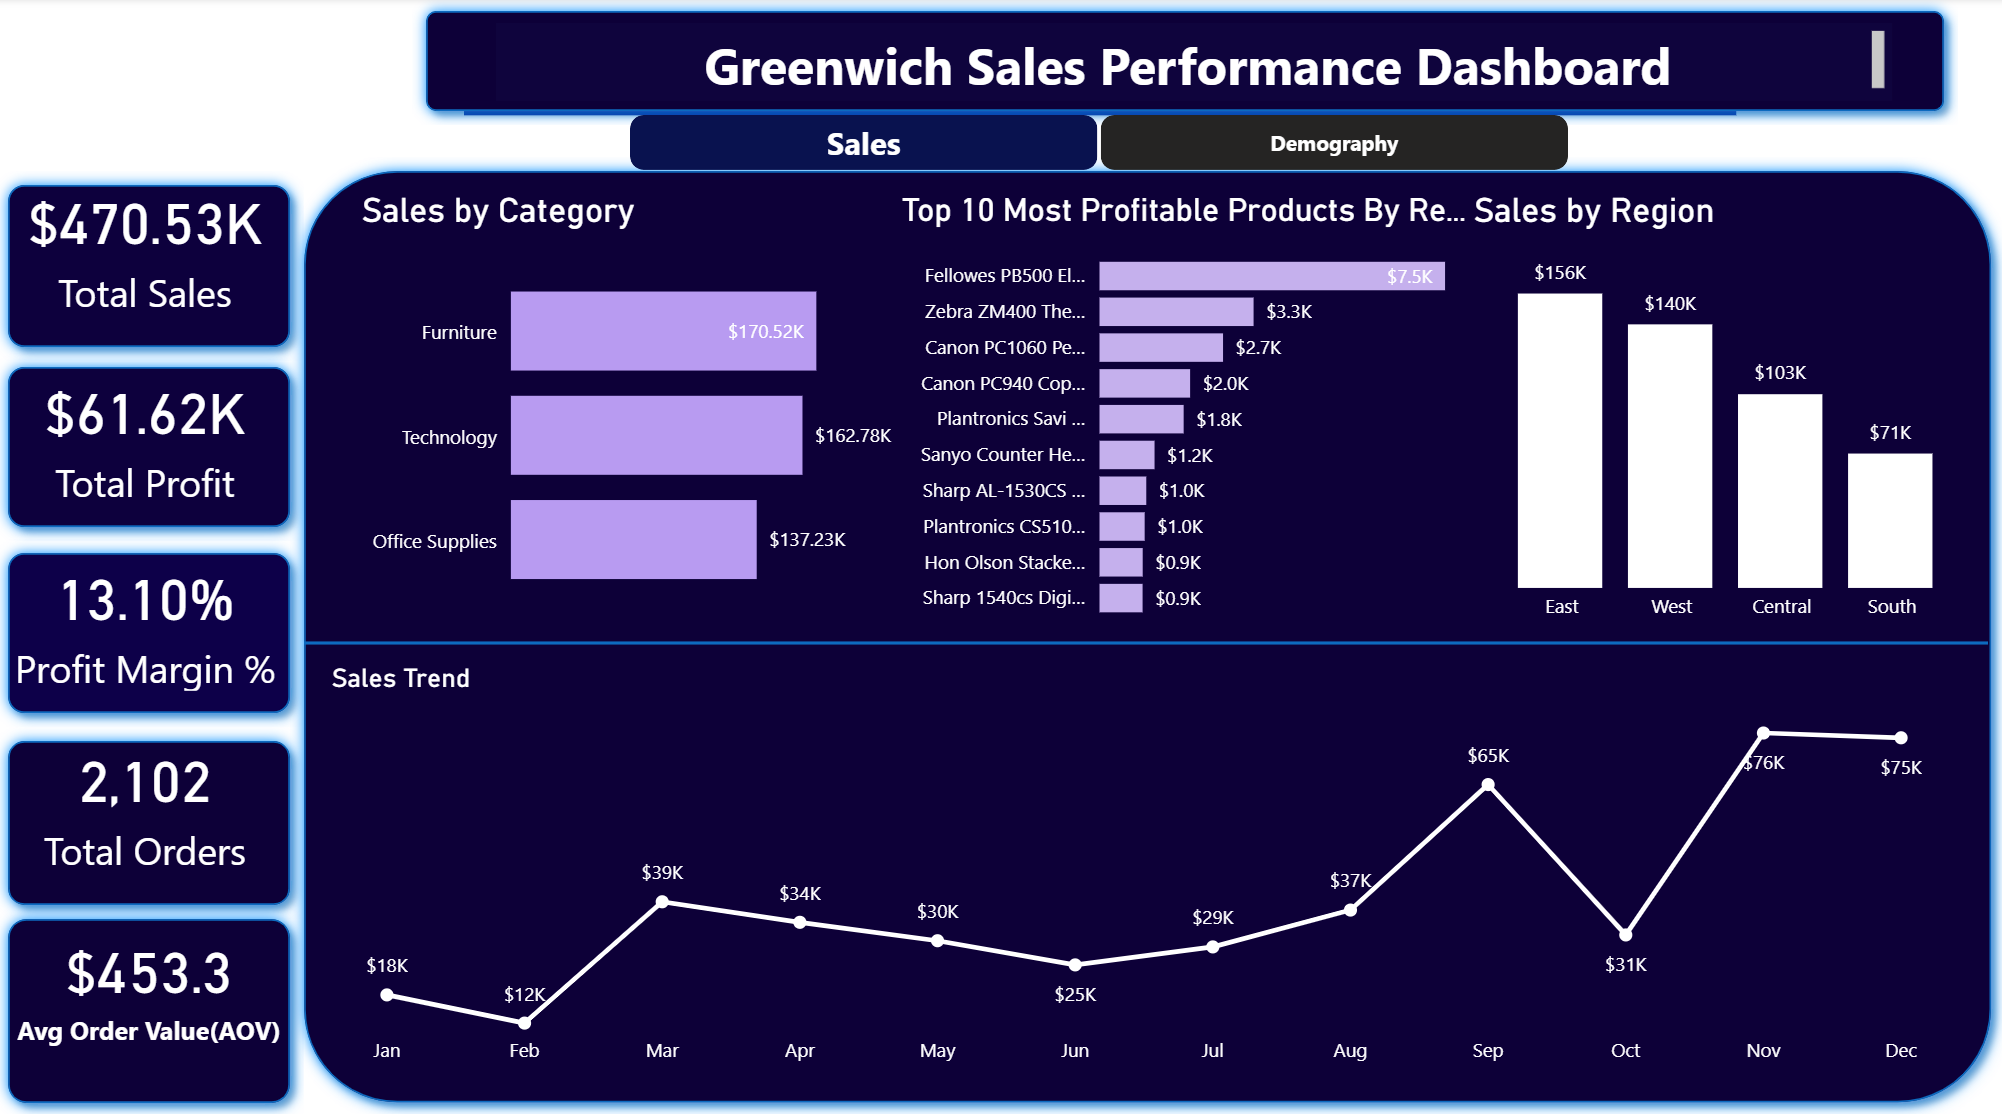

Layout of this report page (visuals, bound fields, positions):
{"tool":"powerbi","page":{"name":"Sales_1","canvas":[1280,720],"ordinal":0},"visuals":[{"type":"shape","box":[188.1,101.5,1093.3,611.6],"z":0},{"type":"shape","box":[0,110.9,197.6,121.1],"z":1000},{"type":"shape","box":[0,226.9,197.6,119.8],"z":2000},{"type":"shape","box":[0,465.3,197.6,122.4],"z":3000},{"type":"shape","box":[0,345.5,197.6,119.8],"z":4000},{"type":"shape","box":[197.6,261.4,1073.5,300.9],"z":5000},{"type":"lineChart","title":"Sales Trend","fields":{"Category":["Calendar_dim.Month_Name"],"Y":["Calculations.Total Sales"]},"box":[210.4,424.5,1045.4,265.2],"z":6000},{"type":"card","fields":{"Values":["Calculations.Total Sales"]},"box":[14,110.9,164.5,93.1],"z":7000},{"type":"card","fields":{"Values":["Calculations.Total Profit"]},"box":[14,232,164.5,93.1],"z":8000},{"type":"card","fields":{"Values":["Calculations.Total Orders"]},"box":[14,466.6,164.5,93.1],"z":9000},{"type":"card","fields":{"Values":["Calculations.Profit Margin %"]},"box":[1.3,346.8,190,100.7],"z":10000},{"type":"clusteredBarChart","title":"Sales by Category","fields":{"Category":["Product_dim.Category"],"Y":["Calculations.Total Sales"]},"box":[229.5,123.7,351.9,281.8],"z":11000},{"type":"clusteredColumnChart","title":"Sales by Region","fields":{"Category":["Location_dim.Region"],"Y":["Calculations.Total Sales"]},"box":[938.3,123.7,332.7,283],"z":12000},{"type":"textbox","box":[299.6,20.4,810.8,54.8],"z":13000},{"type":"shape","box":[266.5,0,985.5,81.6],"z":14000},{"type":"textbox","box":[320,16.6,889.9,49.7],"z":15000},{"type":"bookmarkNavigator","box":[405.5,75.3,599.7,35.7],"z":16000},{"type":"barChart","title":"Top 10 Most Profitable Products By Region","fields":{"Category":["Product_dim.Product Name"],"Y":["Calculations.Total Profit"]},"box":[573.7,123.7,371,283],"z":17000},{"type":"shape","box":[0,578.8,197.6,135.1],"z":18000},{"type":"card","fields":{"Values":["Calculations.Avg Order Value(AOV)"]},"box":[0,578.8,197.6,102],"z":19000}]}

Visuals, with their boxes in screenshot pixels (x1, y1, x2, y2), scaled from the page's 1280x720 canvas onto the 2002x1114 screenshot:
shape: (left=294, top=157, right=2001, bottom=1103)
shape: (left=0, top=172, right=309, bottom=359)
shape: (left=0, top=351, right=309, bottom=536)
shape: (left=0, top=720, right=309, bottom=909)
shape: (left=0, top=535, right=309, bottom=720)
shape: (left=309, top=404, right=1988, bottom=870)
"Sales Trend" lineChart: (left=329, top=657, right=1964, bottom=1067)
card - Calculations.Total Sales: (left=22, top=172, right=279, bottom=316)
card - Calculations.Total Profit: (left=22, top=359, right=279, bottom=503)
card - Calculations.Total Orders: (left=22, top=722, right=279, bottom=866)
card - Calculations.Profit Margin %: (left=2, top=537, right=299, bottom=692)
"Sales by Category" clusteredBarChart: (left=359, top=191, right=909, bottom=627)
"Sales by Region" clusteredColumnChart: (left=1468, top=191, right=1988, bottom=629)
textbox: (left=469, top=32, right=1737, bottom=116)
shape: (left=417, top=0, right=1958, bottom=126)
textbox: (left=500, top=26, right=1892, bottom=103)
bookmarkNavigator: (left=634, top=117, right=1572, bottom=172)
"Top 10 Most Profitable Products By Region" barChart: (left=897, top=191, right=1478, bottom=629)
shape: (left=0, top=896, right=309, bottom=1105)
card - Calculations.Avg Order Value(AOV): (left=0, top=896, right=309, bottom=1053)
